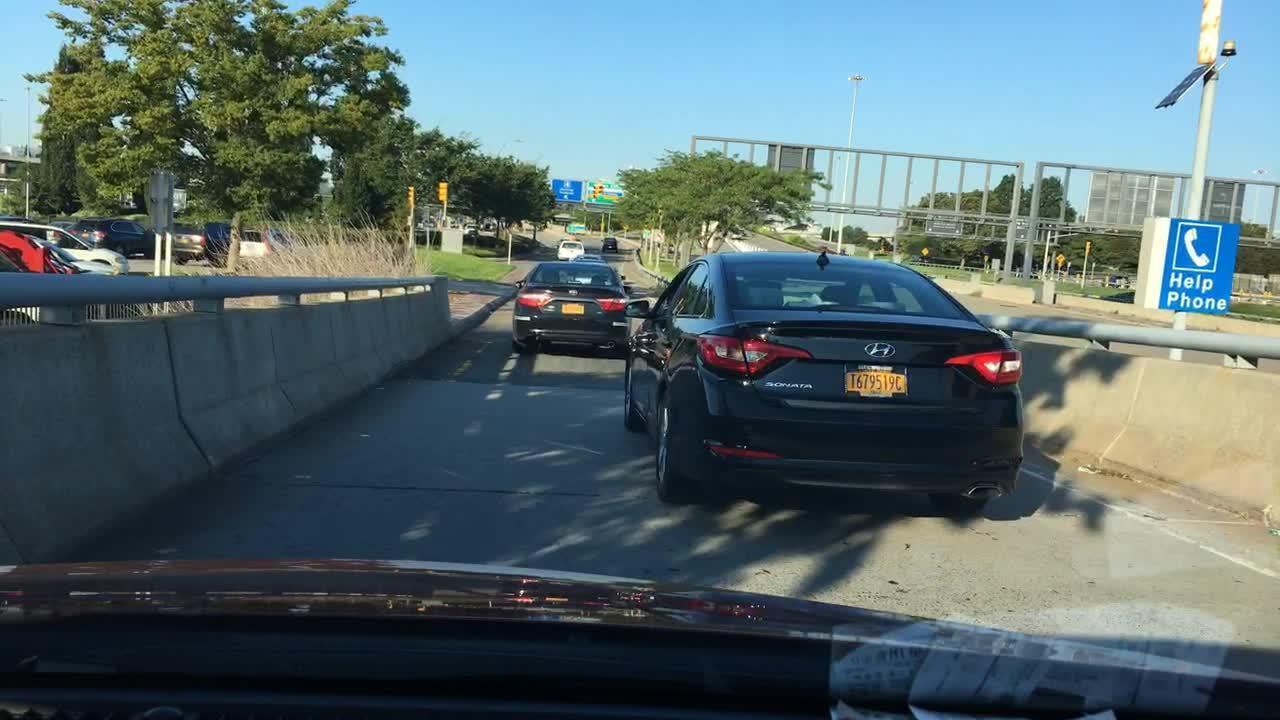Hyundai: (860, 333, 898, 363)
